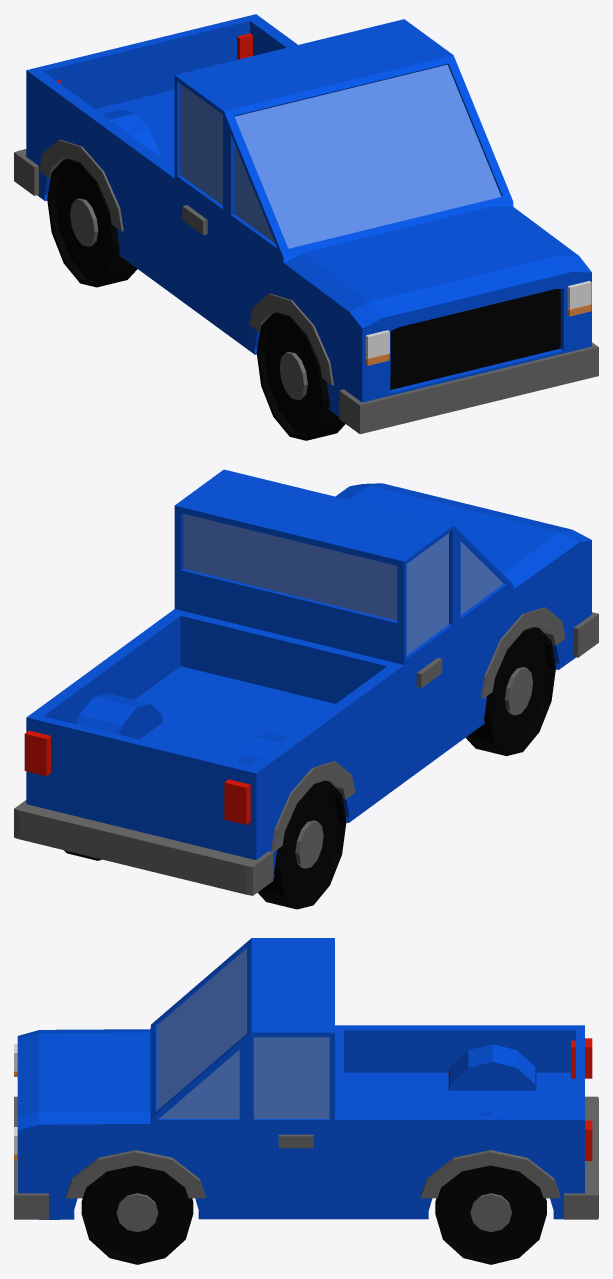
The model's file is Bakkie Car.fbx.
The picture shows the model from 3 angles, top to bottom: view 1: azimuth 30°, elevation 25°; view 2: azimuth 150°, elevation 25°; view 3: azimuth 270°, elevation 25°; orthographic projection. The views are drawn at different scales.
Visible parts, largest first — view 1: Cube, Cube.007, Cylinder.001, Cylinder.002, Cylinder.006, Cylinder.009, Cylinder.005, Cube.008, Cube.003, Cube.004; view 2: Cube, Cube.008, Cylinder.001, Cylinder.002, Cylinder, Cylinder.009, Cylinder.006, Cube.006, Cube.005, Cube.007, Cylinder.005; view 3: Cube, Cylinder.003, Cylinder.004, Cylinder.005, Cylinder.007, Cylinder.008, Cube.008, Cube.007, Cube.009, Cube.006.
Part boxes in pixels (<box>): Cube: <box>26,14,591,416</box>; Cube.007: <box>339,342,598,434</box>; Cylinder.001: <box>256,312,345,440</box>; Cylinder.002: <box>47,158,137,287</box>; Cylinder.006: <box>39,139,123,231</box>; Cylinder.009: <box>249,293,333,385</box>; Cylinder.005: <box>102,109,160,156</box>; Cube.008: <box>14,149,38,195</box>; Cube.003: <box>567,281,591,309</box>; Cube.004: <box>365,330,389,358</box>; Cube: <box>26,469,591,877</box>; Cube.008: <box>14,800,273,895</box>; Cylinder.001: <box>465,627,555,755</box>; Cylinder.002: <box>257,780,346,909</box>; Cylinder: <box>76,693,162,739</box>; Cylinder.009: <box>481,607,565,698</box>; Cylinder.006: <box>271,761,355,852</box>; Cube.006: <box>224,779,250,824</box>; Cube.005: <box>24,730,50,776</box>; Cube.007: <box>573,612,598,657</box>; Cylinder.005: <box>237,733,289,766</box>; Cube: <box>17,938,584,1219</box>; Cylinder.003: <box>81,1165,193,1264</box>; Cylinder.004: <box>435,1165,546,1264</box>; Cylinder.005: <box>448,1044,536,1090</box>; Cylinder.007: <box>65,1150,205,1198</box>; Cylinder.008: <box>420,1150,560,1198</box>; Cube.008: <box>564,1096,598,1219</box>; Cube.007: <box>14,1096,48,1219</box>; Cube.009: <box>278,1134,313,1148</box>; Cube.006: <box>571,1038,592,1078</box>.
Bounding box in the file's own units: 256 × 280 × 639.
